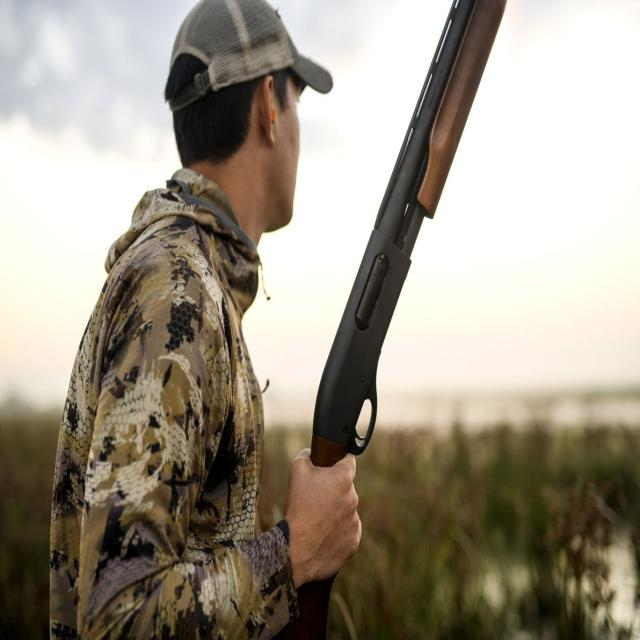ShotGun: (281, 0, 508, 640)
